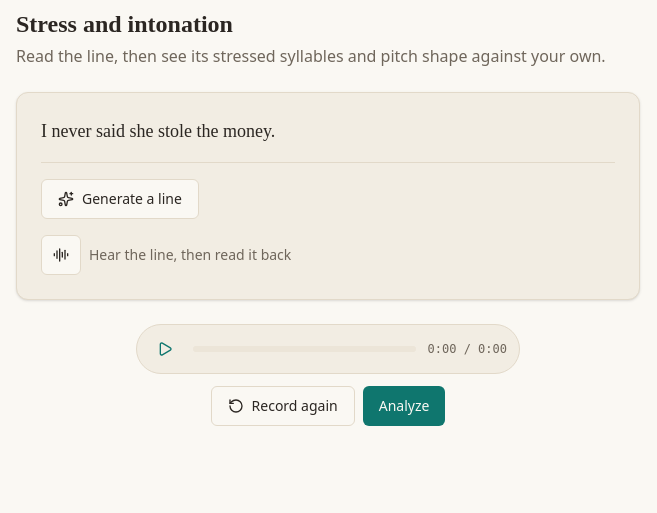
Test: StressIntonation › should surface an actionable message when analysis fails
This screenshot has width=657, height=513.
Click the button "Analyze": point(404, 406) [363,386,445,426]
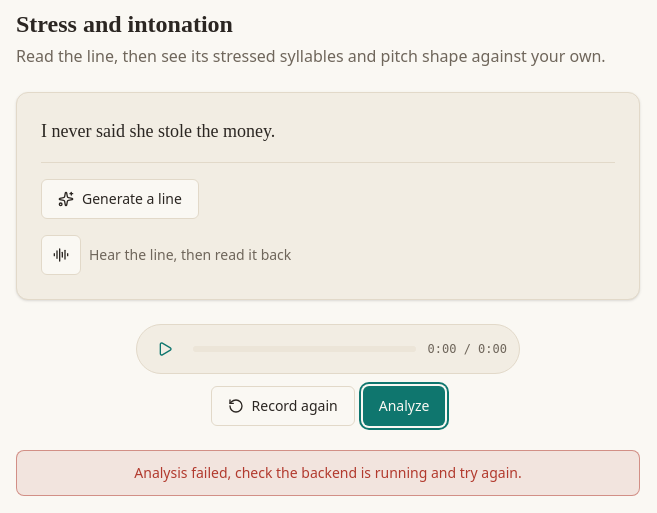
Now the message shows "Analysis failed", box [134,463,522,482]
